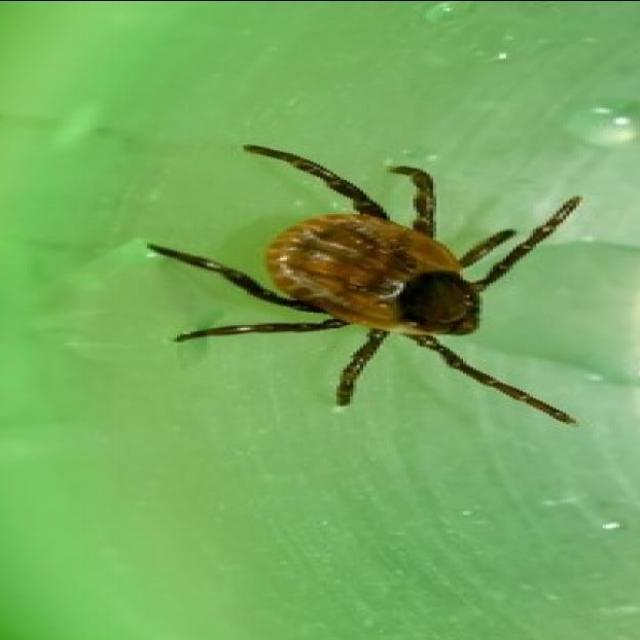Rhipicephalus Sanguineus-F: (144, 142, 579, 422)
